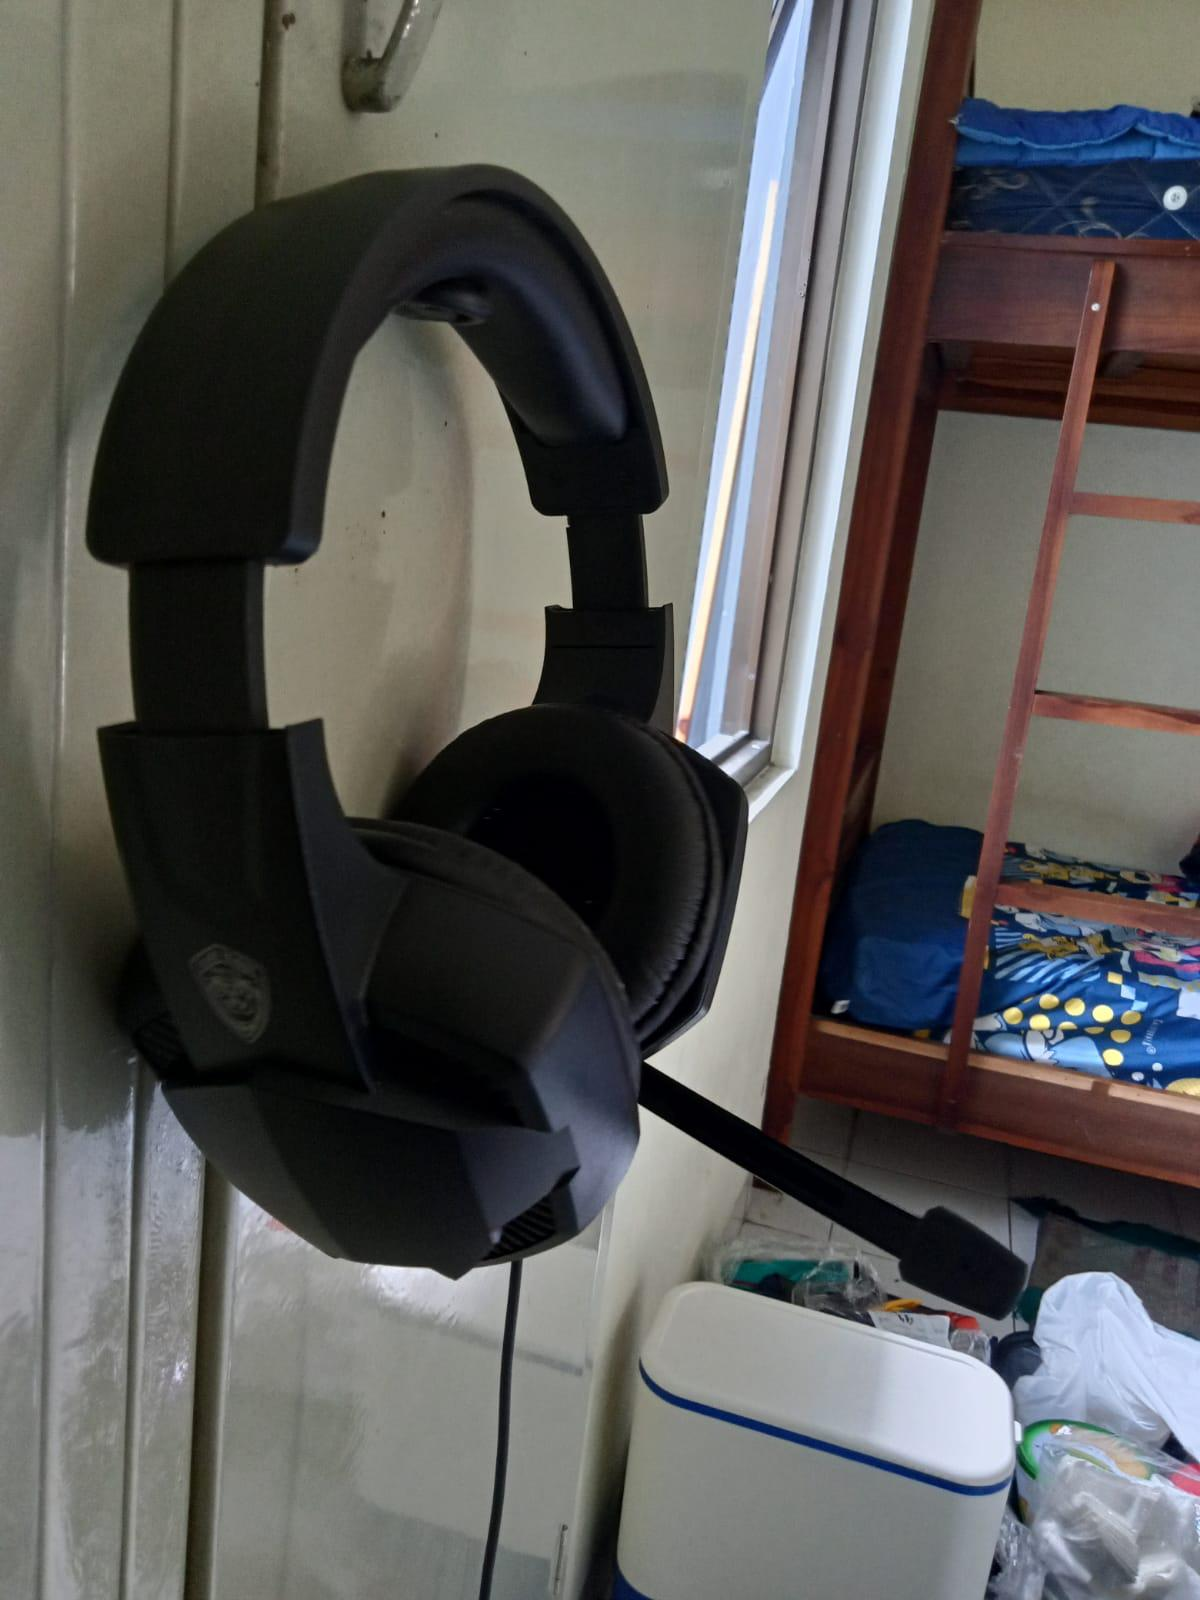Headset: (92, 151, 1035, 1323)
